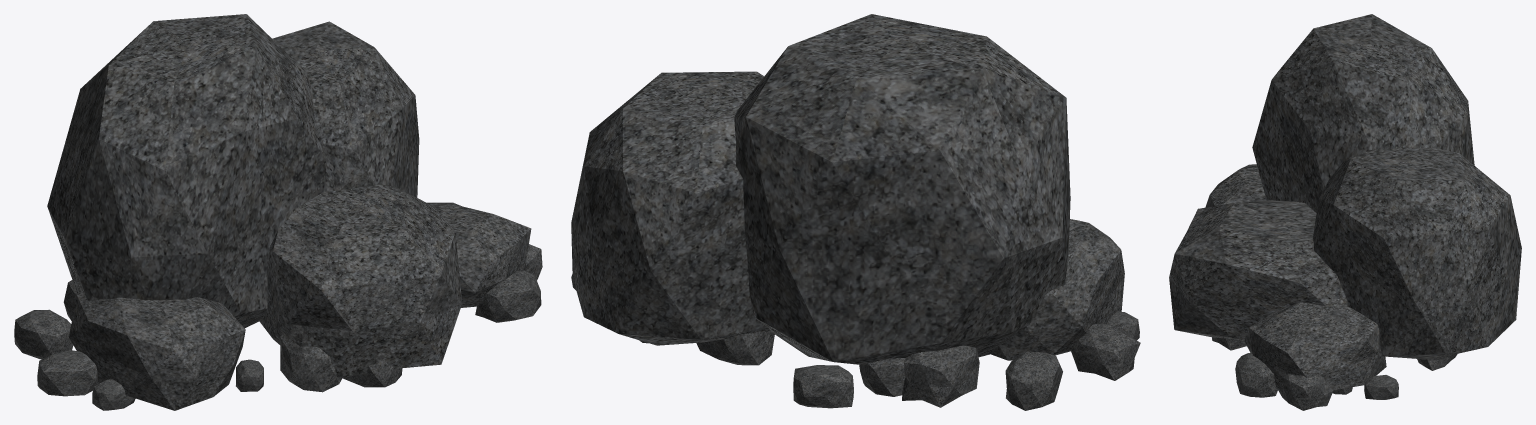
File: grey-outcrop-textured-v03.glb
3 views of the same model, side by side, from view 1: azimuth 30°, elevation 25°; view 2: azimuth 150°, elevation 25°; view 3: azimuth 270°, elevation 25° (orthographic). The views are drawn at different scales.
Parts seen in each view (by area): view 1: Grey rocks | main split face, Grey rocks | front ledge, Grey rocks | back shoulder, Grey rocks | left fallen slab, Grey rocks | right broken slab, Grey rocks | fragment 05, Grey rocks | fragment 04, Grey rocks | fragment 09, Grey rocks | fragment 15, Grey rocks | fragment 12, Grey rocks | fragment 02, Grey rocks | fragment 07; view 2: Grey rocks | main split face, Grey rocks | back shoulder, Grey rocks | left fallen slab, Grey rocks | fragment 01, Grey rocks | fragment 04, Grey rocks | fragment 09, Grey rocks | fragment 06, Grey rocks | fragment 11, Grey rocks | fragment 14, Grey rocks | fragment 12; view 3: Grey rocks | back shoulder, Grey rocks | main split face, Grey rocks | front ledge, Grey rocks | right broken slab, Grey rocks | left fallen slab, Grey rocks | fragment 13, Grey rocks | fragment 05, Grey rocks | fragment 08, Grey rocks | fragment 03.
Part boxes in pixels (x1,y1,x2,y2): Grey rocks | main split face: (47,14,326,327); Grey rocks | front ledge: (259,184,462,378); Grey rocks | back shoulder: (272,21,419,197); Grey rocks | left fallen slab: (69,293,245,410); Grey rocks | right broken slab: (427,202,531,307); Grey rocks | fragment 05: (475,269,541,322); Grey rocks | fragment 04: (37,350,99,396); Grey rocks | fragment 09: (14,309,73,359); Grey rocks | fragment 15: (280,335,342,392); Grey rocks | fragment 12: (92,379,135,410); Grey rocks | fragment 02: (342,359,402,387); Grey rocks | fragment 07: (236,359,263,391); Grey rocks | main split face: (734,14,1070,365); Grey rocks | back shoulder: (571,71,770,345); Grey rocks | left fallen slab: (988,219,1124,360); Grey rocks | fragment 01: (902,345,979,407); Grey rocks | fragment 04: (1071,324,1140,380); Grey rocks | fragment 09: (1005,351,1062,410); Grey rocks | fragment 06: (793,365,853,408); Grey rocks | fragment 11: (696,331,774,365); Grey rocks | fragment 14: (859,358,905,396); Grey rocks | fragment 12: (1107,311,1139,340); Grey rocks | back shoulder: (1313,147,1521,359); Grey rocks | main split face: (1252,14,1474,212); Grey rocks | front ledge: (1169,200,1348,343); Grey rocks | right broken slab: (1244,302,1386,391); Grey rocks | left fallen slab: (1205,164,1266,207); Grey rocks | fragment 13: (1278,374,1333,410); Grey rocks | fragment 05: (1235,353,1277,397); Grey rocks | fragment 08: (1364,375,1398,399); Grey rocks | fragment 03: (1417,354,1457,370).
Bounding box in the file's own units: 3.45 × 1.9 × 2.5.
Materials: 1 (1 with a texture image).
